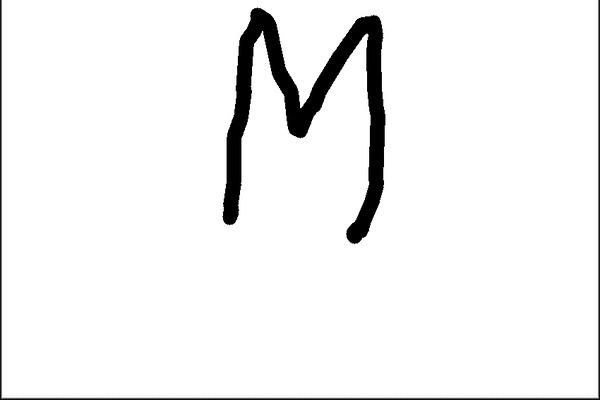M: (220, 6, 384, 247)
